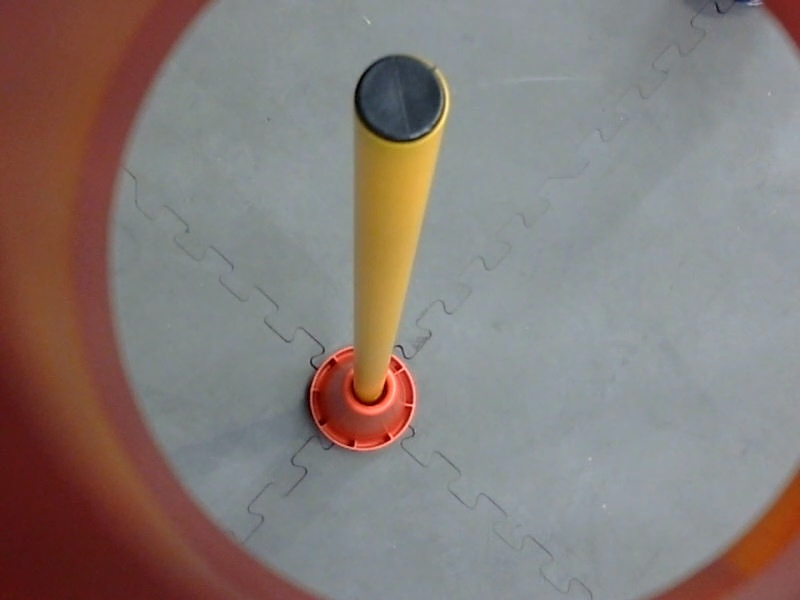tip: (345, 51, 457, 152)
